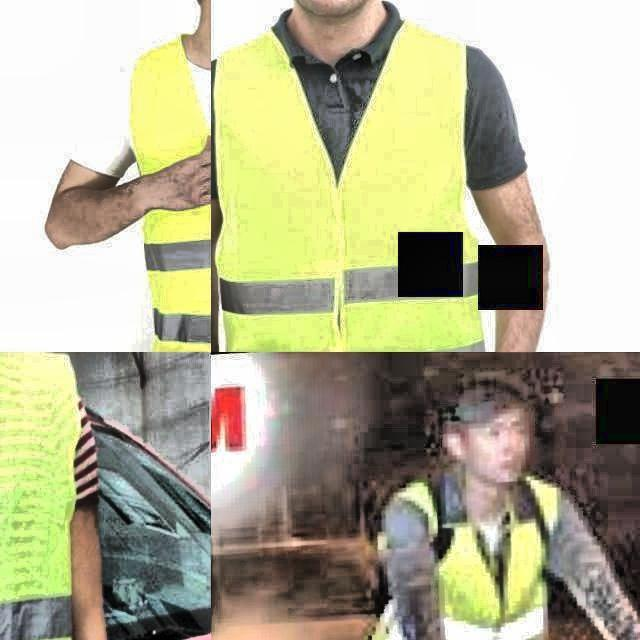safety_jacket: (211, 15, 519, 352), (377, 463, 589, 640), (0, 352, 117, 640), (111, 17, 211, 352)
